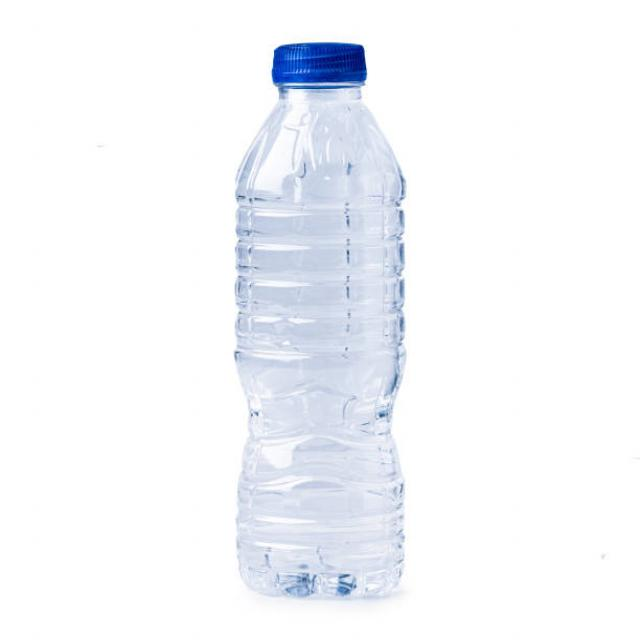plastic: (234, 45, 406, 600)
